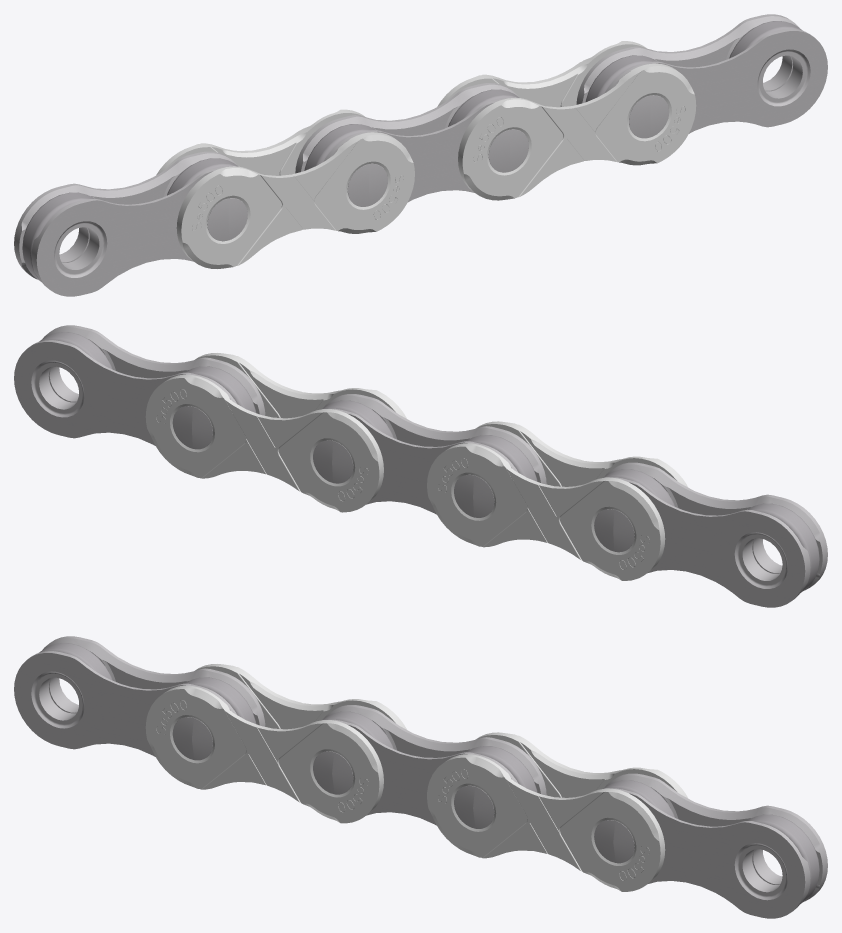
File: Se500-Silver&Gray.glb
3 renders of one model, top to bottom at view 1: azimuth 30°, elevation 25°; view 2: azimuth 150°, elevation 25°; view 3: azimuth 330°, elevation 25°, orthographic.
Visible parts, largest first — view 1: 10SP(行銷需求)_body1-Silver2.PBR (×4), HG-401-RLP(行銷需求)_body1 (×6), HG-401-RL(行銷需求)_body1 (×6), 圓鉚軸(行銷)_body1 (×4); view 2: 10SP(行銷需求)_body1-Silver2.PBR (×4), HG-401-RLP(行銷需求)_body1 (×6), HG-401-RL(行銷需求)_body1 (×6), 圓鉚軸(行銷)_body1 (×4); view 3: 10SP(行銷需求)_body1-Silver2.PBR (×4), HG-401-RLP(行銷需求)_body1 (×6), HG-401-RL(行銷需求)_body1 (×6), 圓鉚軸(行銷)_body1 (×4).
Boxes of the visible parts, x1,y1,x2,y2 form: 10SP(行銷需求)_body1-Silver2.PBR (×4): (156,41,696,268); HG-401-RLP(行銷需求)_body1 (×6): (14,14,827,296); HG-401-RL(行銷需求)_body1 (×6): (22,21,802,281); 圓鉚軸(行銷)_body1 (×4): (207,95,669,241); 10SP(行銷需求)_body1-Silver2.PBR (×4): (145,353,688,580); HG-401-RLP(行銷需求)_body1 (×6): (14,325,827,607); HG-401-RL(行銷需求)_body1 (×6): (39,332,819,592); 圓鉚軸(行銷)_body1 (×4): (172,406,634,552); 10SP(行銷需求)_body1-Silver2.PBR (×4): (145,664,688,891); HG-401-RLP(行銷需求)_body1 (×6): (14,636,827,918); HG-401-RL(行銷需求)_body1 (×6): (39,643,819,903); 圓鉚軸(行銷)_body1 (×4): (172,717,634,863).
Size of the model in its own units: 7.12 by 0.84 by 0.575.
4 materials, 3 textured.
